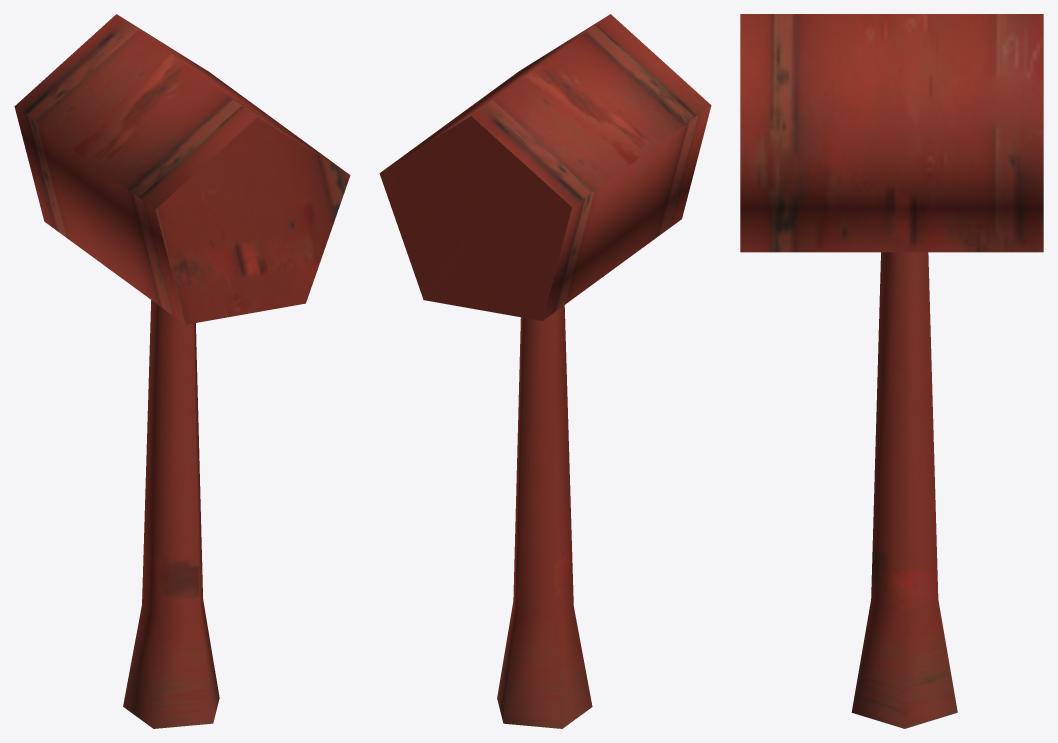
The model's file is mailbox.FBX.
3 renders of one model, left to right at view 1: azimuth 30°, elevation 25°; view 2: azimuth 150°, elevation 25°; view 3: azimuth 270°, elevation 25°, orthographic. The views are drawn at different scales.
Parts seen in each view (by area): view 1: Cylinder002; view 2: Cylinder002; view 3: Cylinder002.
Part boxes in pixels (left/top/right/bottom): Cylinder002: left=14, top=14, right=350, bottom=728; Cylinder002: left=379, top=14, right=711, bottom=728; Cylinder002: left=740, top=14, right=1043, bottom=728.
Bounding box in the file's own units: 34.26 × 108 × 42.93.
